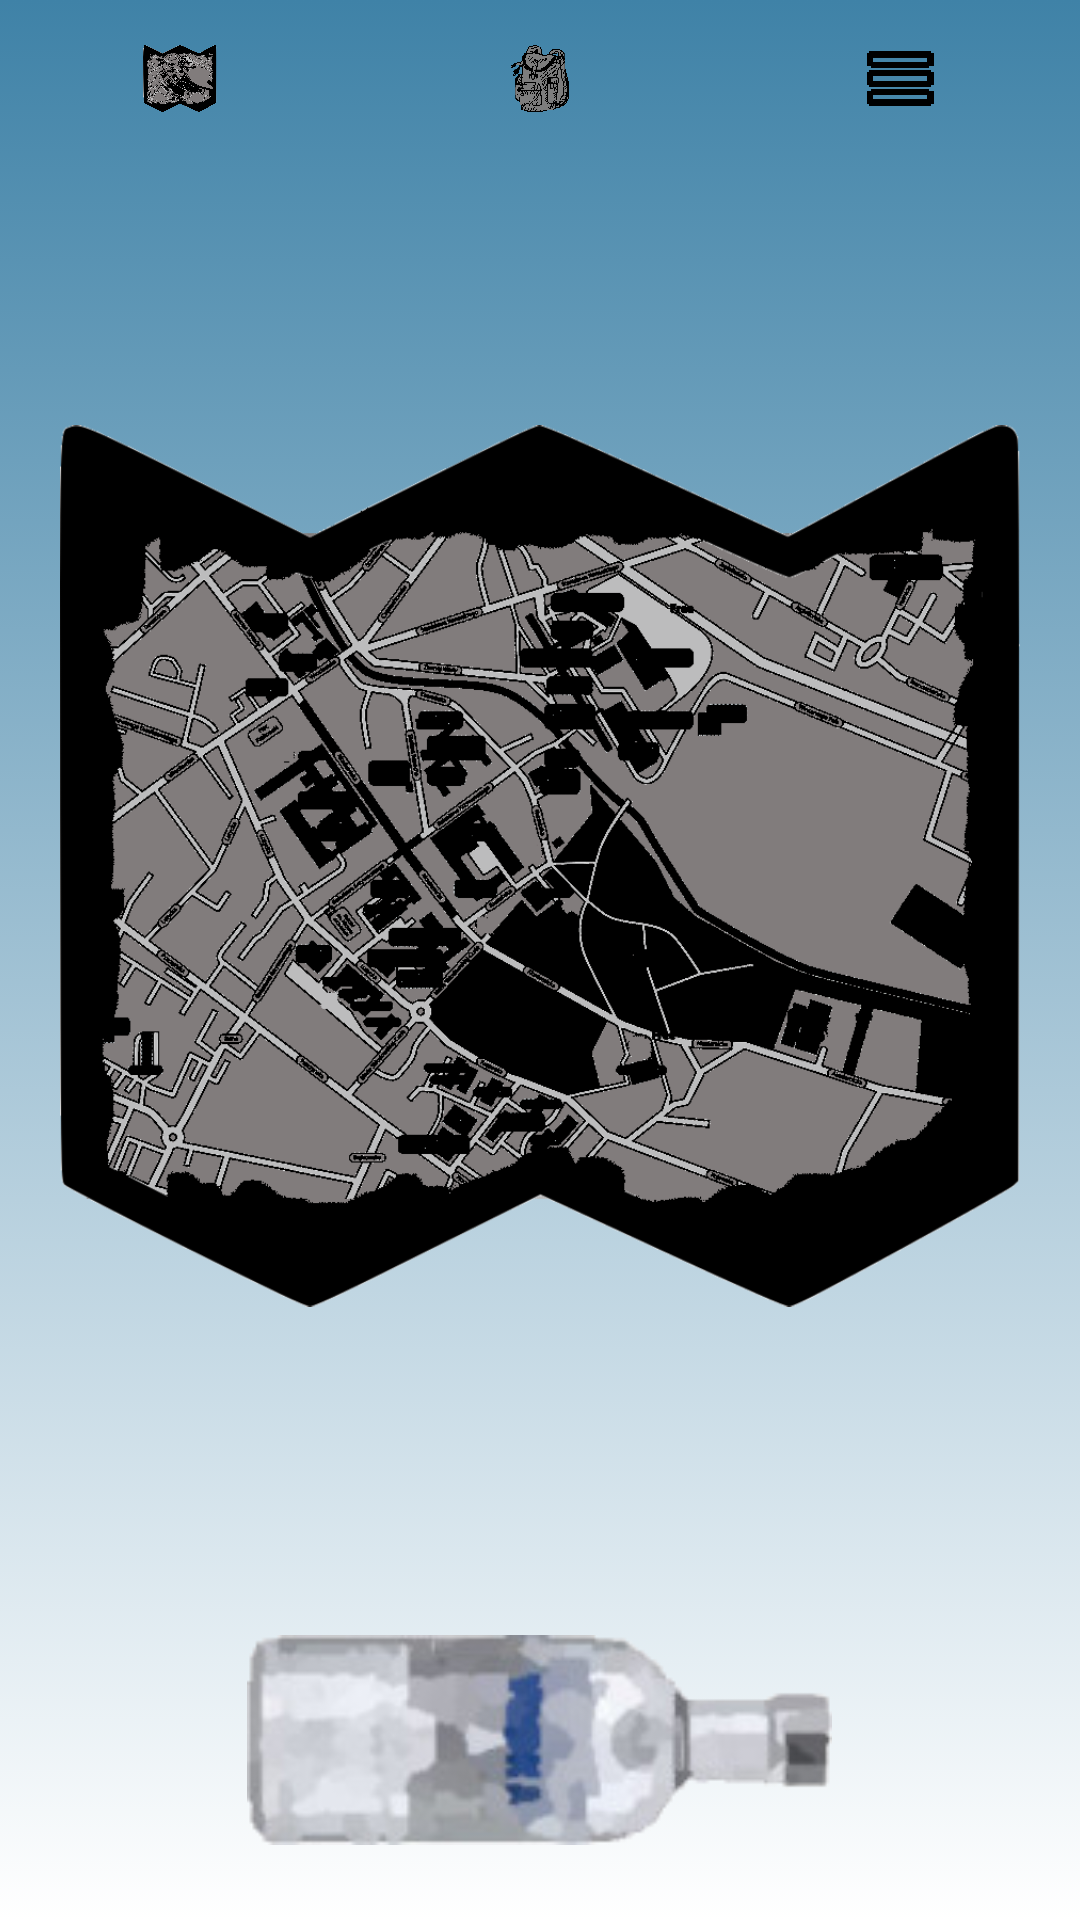

Icons on this 1080w x 1920h Android screen, each with the point to tap as (x=x, y=y):
Equipment: (x=540, y=78)
Ingame menu: (x=900, y=78)
Map: (x=179, y=78)
